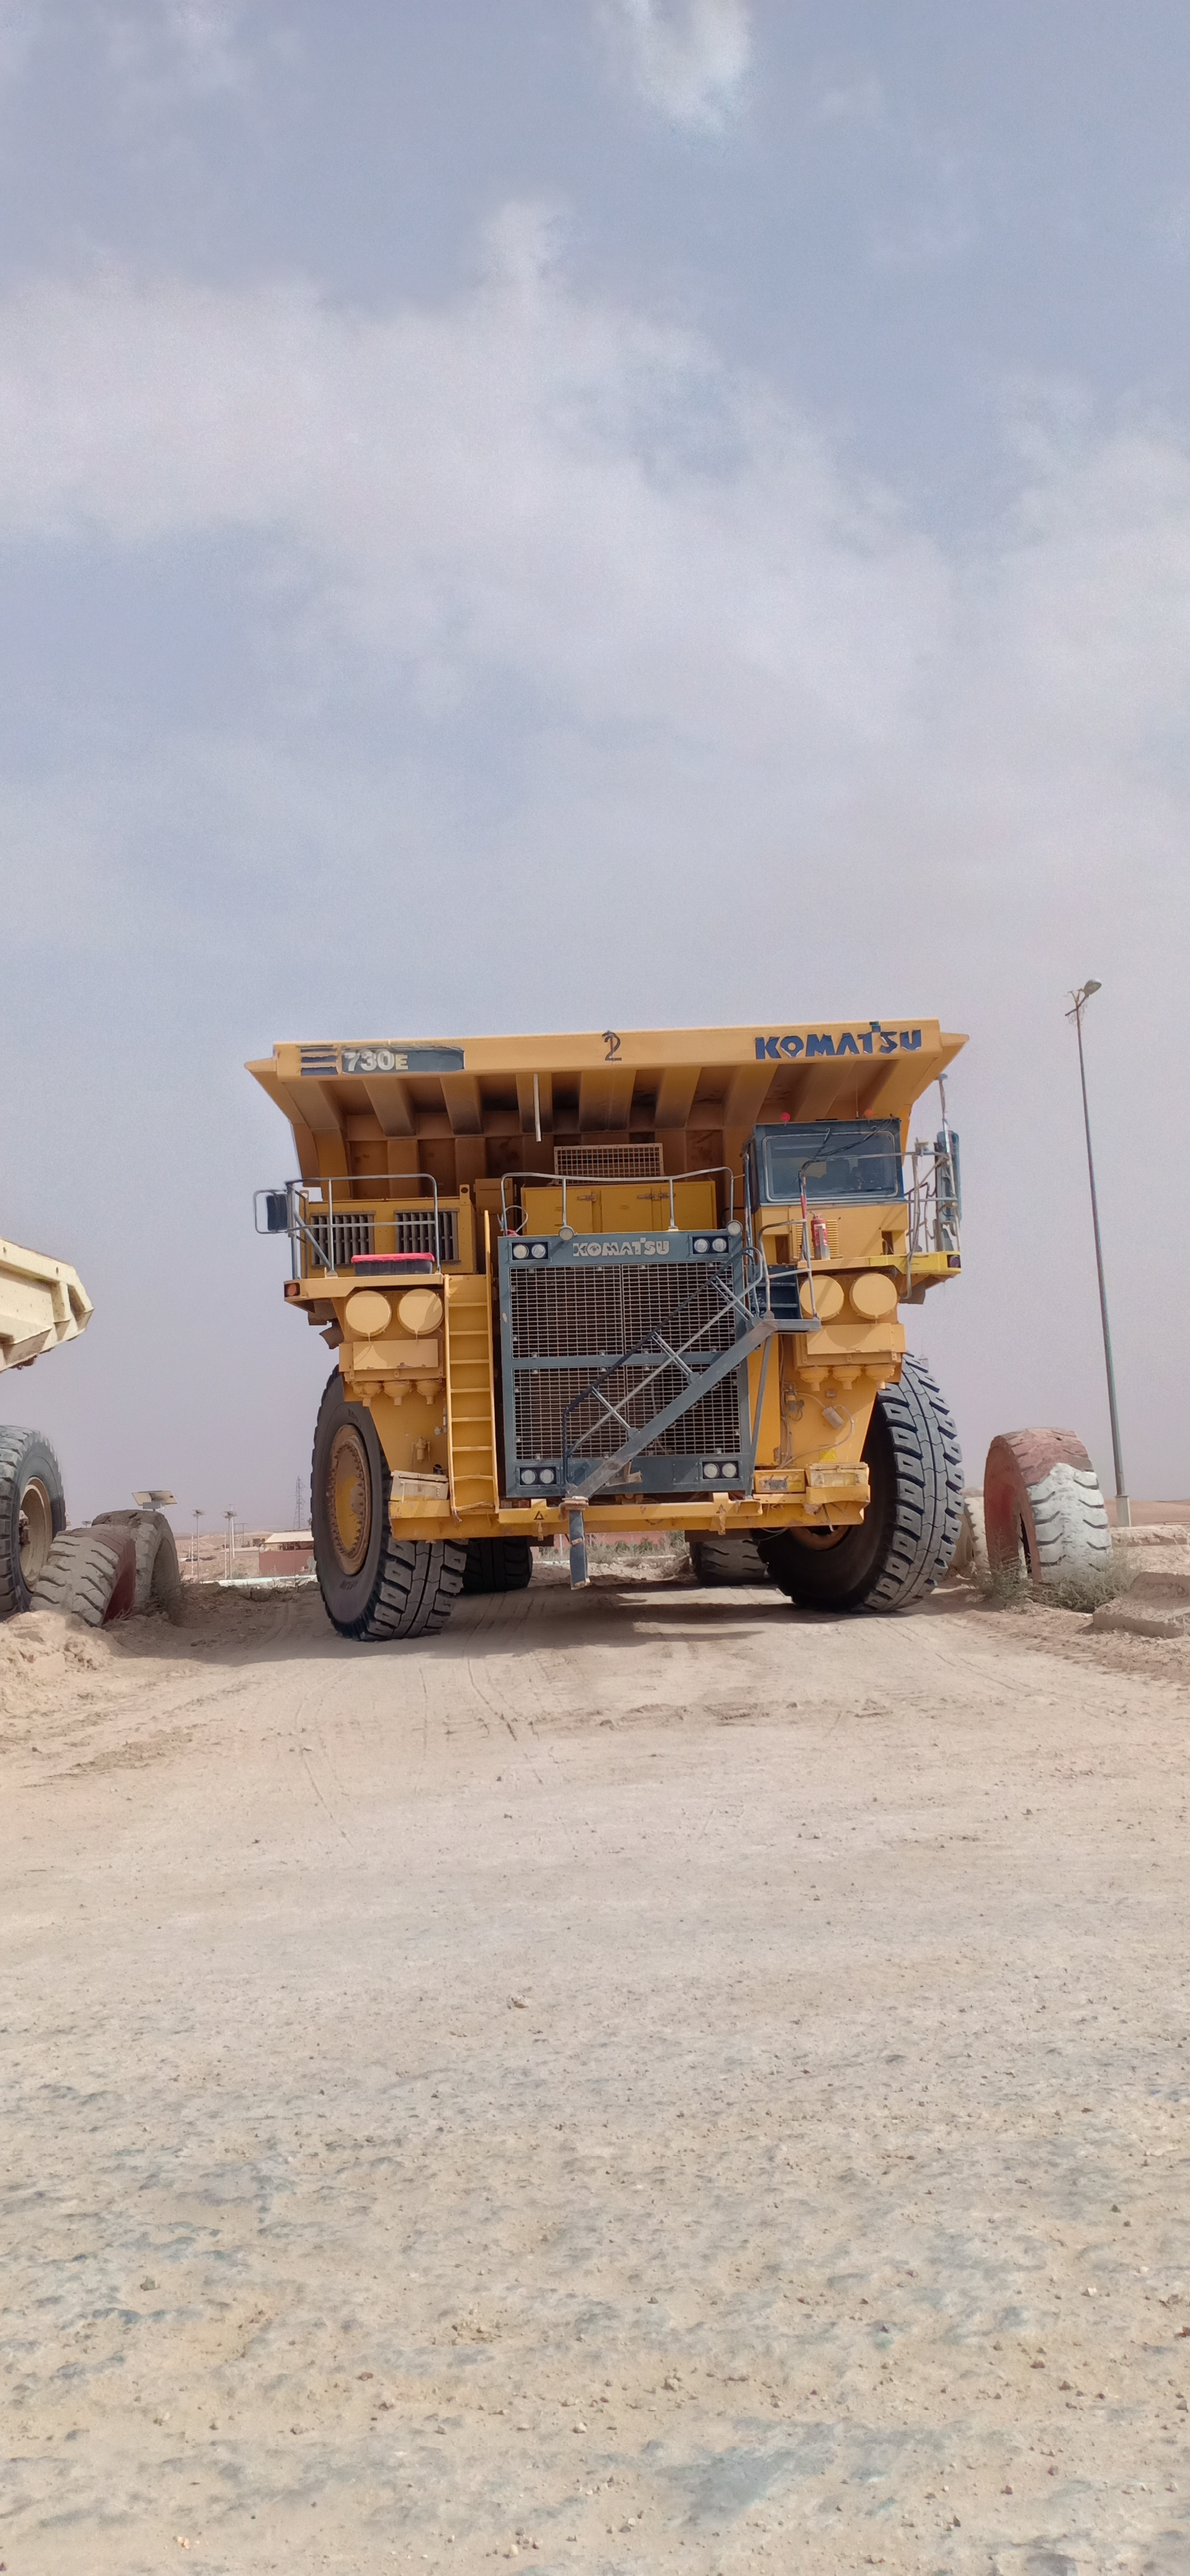camion: (240, 999, 1021, 1669)
